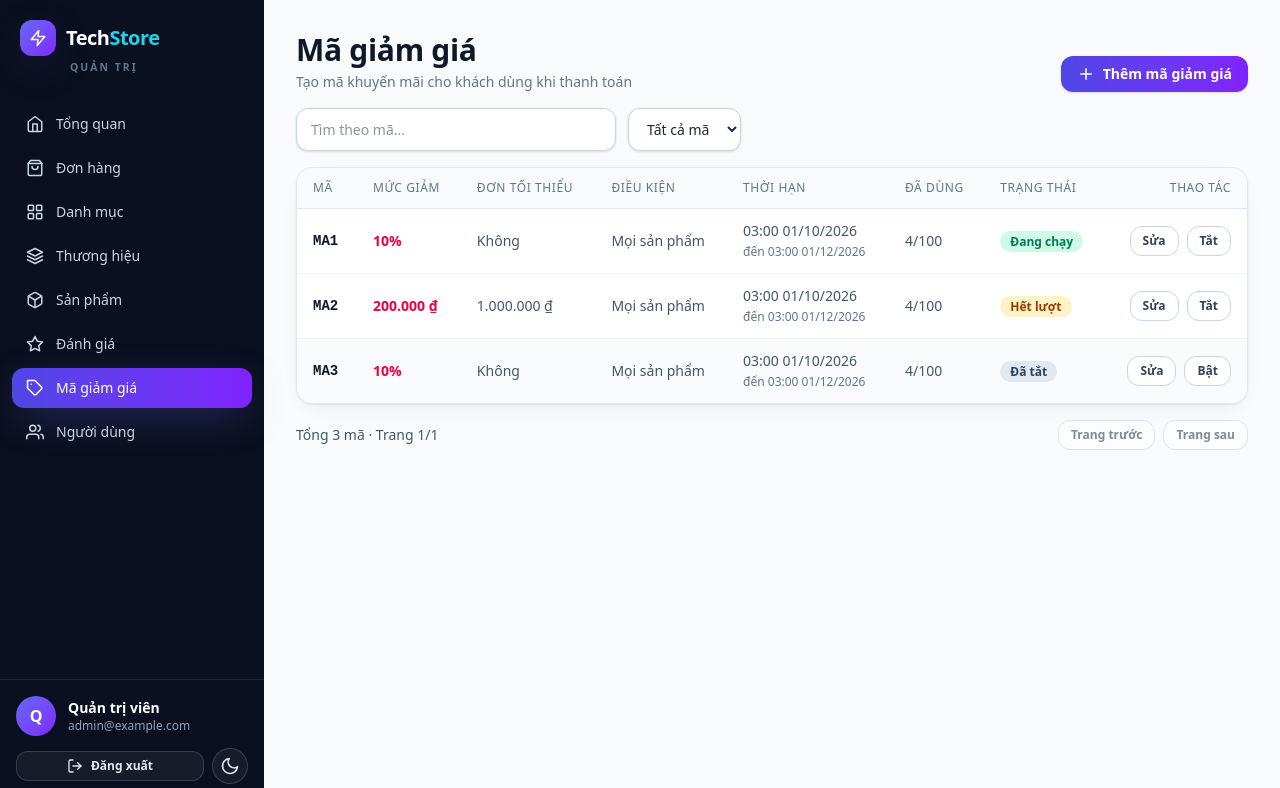
Test: Điều kiện phụ: điểm tối thiểu và phạm vi áp dụng (US-24) › danh mục đang ẩn vẫn chọn được và được đánh dấu
Expected: the table is shown, [297, 168, 1247, 403]
Click the button "Thêm mã giảm giá" at (1154, 74), box [1061, 56, 1248, 92]
(page scrolled)
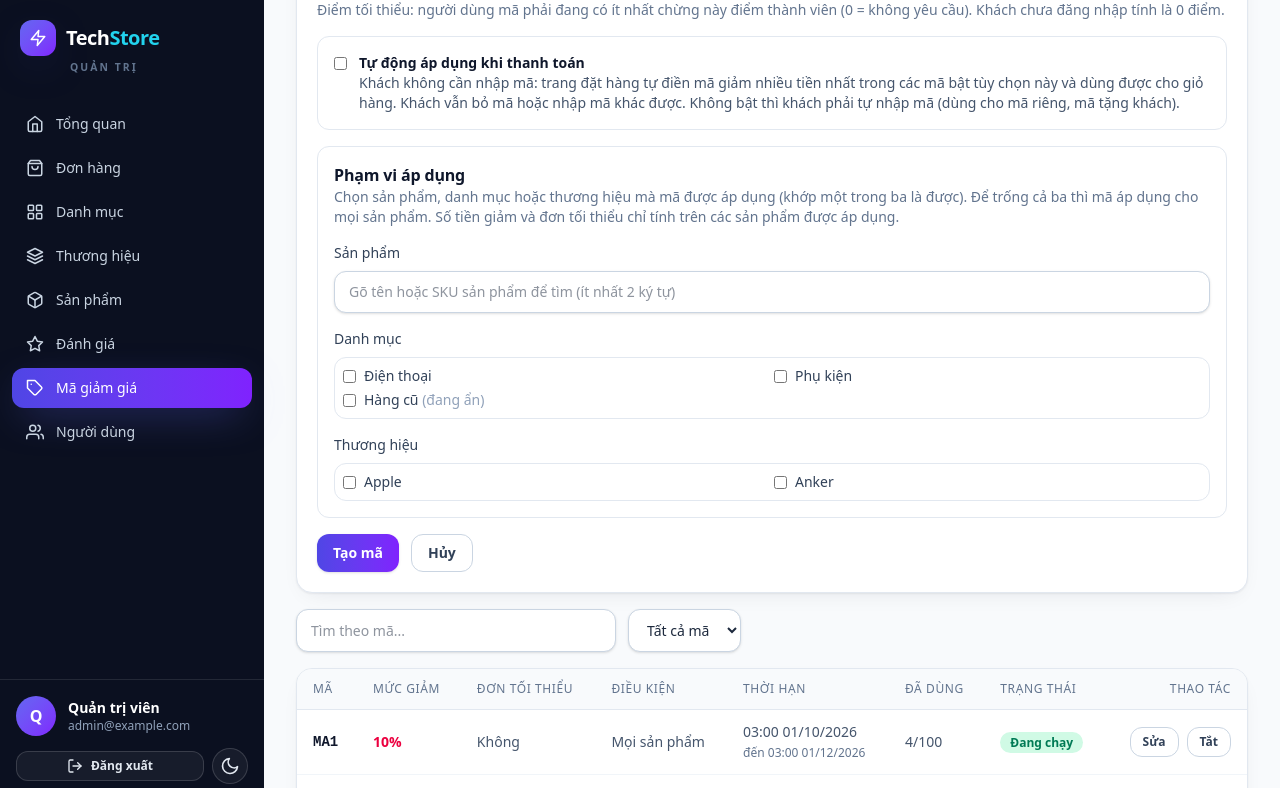
Expected: the text "Hàng cũ (đang ẩn)" is shown, [364, 390, 484, 410]
